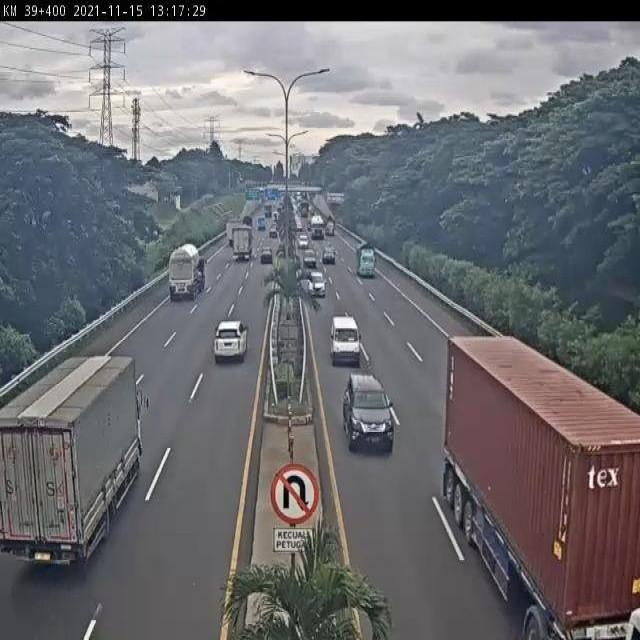car: (341, 373, 396, 456), (329, 316, 362, 368), (214, 318, 248, 362), (304, 268, 328, 297)
truck-l-: (1, 355, 141, 580)
truck-m-: (230, 225, 255, 263)
truck-s-: (354, 240, 380, 279)
truck-xl-: (444, 333, 640, 640), (165, 243, 206, 304)
